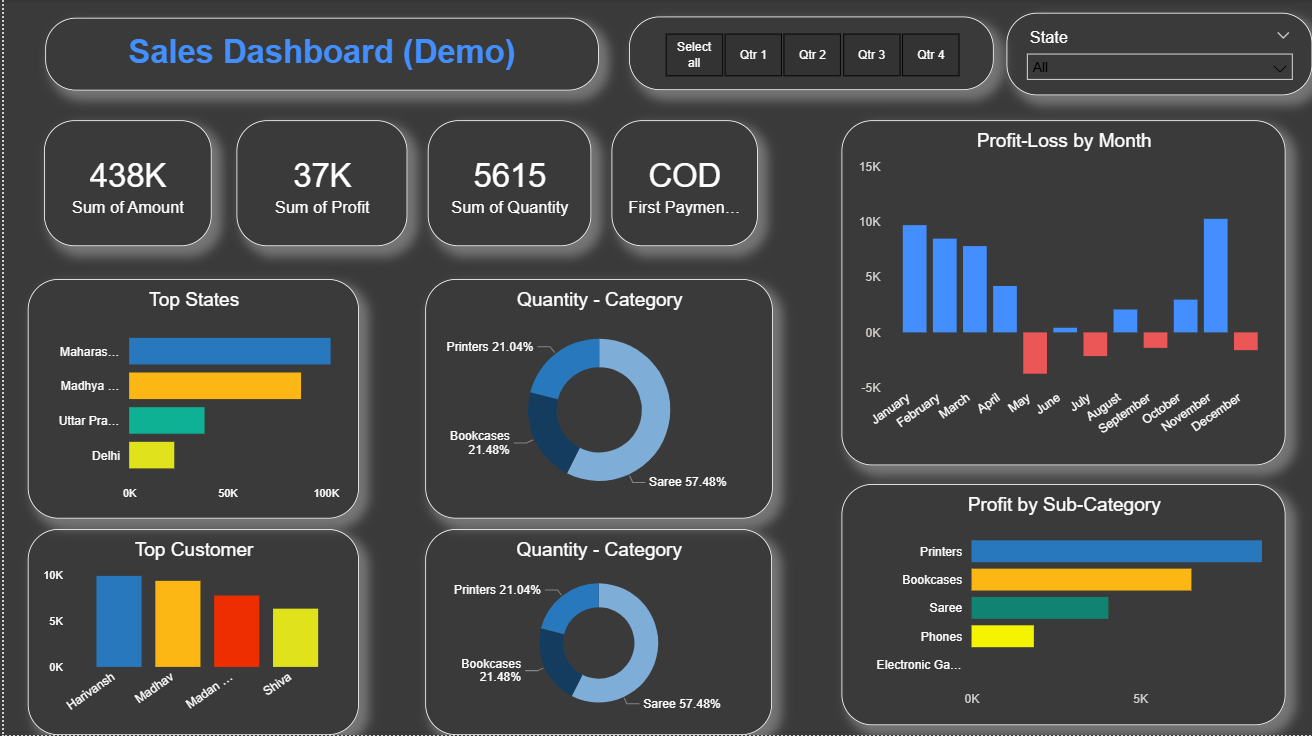

This screenshot's page, from the dashboard's own definition file:
{"tool":"powerbi","page":{"name":"Page 1","canvas":[1280,720],"ordinal":0},"visuals":[{"type":"textbox","box":[40.4,18.3,541.7,70.9],"z":0},{"type":"card","fields":{"Values":["Sum(Details.Amount)"]},"box":[39.1,118.6,163.9,123.5],"z":1000},{"type":"card","fields":{"Values":["Sum(Details.Profit)"]},"box":[227.4,118.6,167.5,123.5],"z":2000},{"type":"card","fields":{"Values":["Sum(Details.Quantity)"]},"box":[414.5,118.6,160.2,123.5],"z":3000},{"type":"card","fields":{"Values":["Min(Details.PaymentMode)"]},"box":[594.3,118.6,143.1,123.5],"z":4000},{"type":"barChart","title":"Top States","fields":{"Y":["Sum(Details.Amount)"],"Category":["Orders (2).State"]},"box":[23.2,273.9,324.1,234.8],"z":5000},{"type":"donutChart","title":"Quantity - Category","fields":{"Y":["Sum(Details.Quantity)"],"Category":["Details.Sub-Category"]},"box":[412.1,273.9,339.9,234.8],"z":6000},{"type":"clusteredColumnChart","title":"Top Customer","fields":{"Category":["Orders (2).CustomerName"],"Y":["Sum(Details.Amount)"]},"box":[23.3,518.7,323.8,201.7],"z":7000},{"type":"donutChart","title":"Quantity - Category","fields":{"Y":["Sum(Details.Quantity)"],"Category":["Details.Sub-Category"]},"box":[411.7,518.7,338.9,201.7],"z":8000},{"type":"clusteredColumnChart","title":"Profit-Loss by Month","fields":{"Y":["Sum(Details.Profit)"],"Category":["Orders (2).Order Date.Variation.Date Hierarchy.Month"]},"box":[819.3,118.6,434.1,337.5],"z":9000},{"type":"clusteredBarChart","title":"Profit by Sub-Category","fields":{"Category":["Details.Sub-Category"],"Y":["Sum(Details.Profit)"]},"box":[819.3,474.5,434.1,236],"z":10000},{"type":"slicer","fields":{"Values":["Orders (2).Order Date.Variation.Date Hierarchy.Quarter"]},"box":[611.4,17.1,357.1,72.1],"z":11000},{"type":"slicer","fields":{"Values":["Orders (2).State"]},"box":[980.7,13.5,299.6,80.7],"z":12000}]}

Visuals, with their boxes in screenshot pixels (x1, y1, x2, y2), scaled from the page's 1280x720 canvas onto the 1312x736 screenshot:
textbox: region(41, 19, 597, 91)
card - Sum(Details.Amount): region(40, 121, 208, 247)
card - Sum(Details.Profit): region(233, 121, 405, 247)
card - Sum(Details.Quantity): region(425, 121, 589, 247)
card - Min(Details.PaymentMode): region(609, 121, 756, 247)
"Top States" barChart: region(24, 280, 356, 520)
"Quantity - Category" donutChart: region(422, 280, 771, 520)
"Top Customer" clusteredColumnChart: region(24, 530, 356, 735)
"Quantity - Category" donutChart: region(422, 530, 769, 735)
"Profit-Loss by Month" clusteredColumnChart: region(840, 121, 1285, 466)
"Profit by Sub-Category" clusteredBarChart: region(840, 485, 1285, 726)
slicer - Orders (2).Order Date.Variation.Date Hierarchy.Quarter: region(627, 17, 993, 91)
slicer - Orders (2).State: region(1005, 14, 1311, 96)
